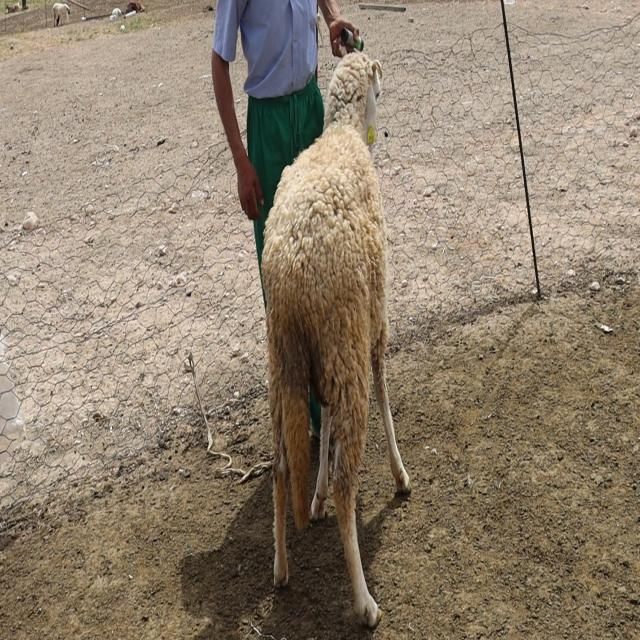Score_2: (262, 52, 410, 626)
